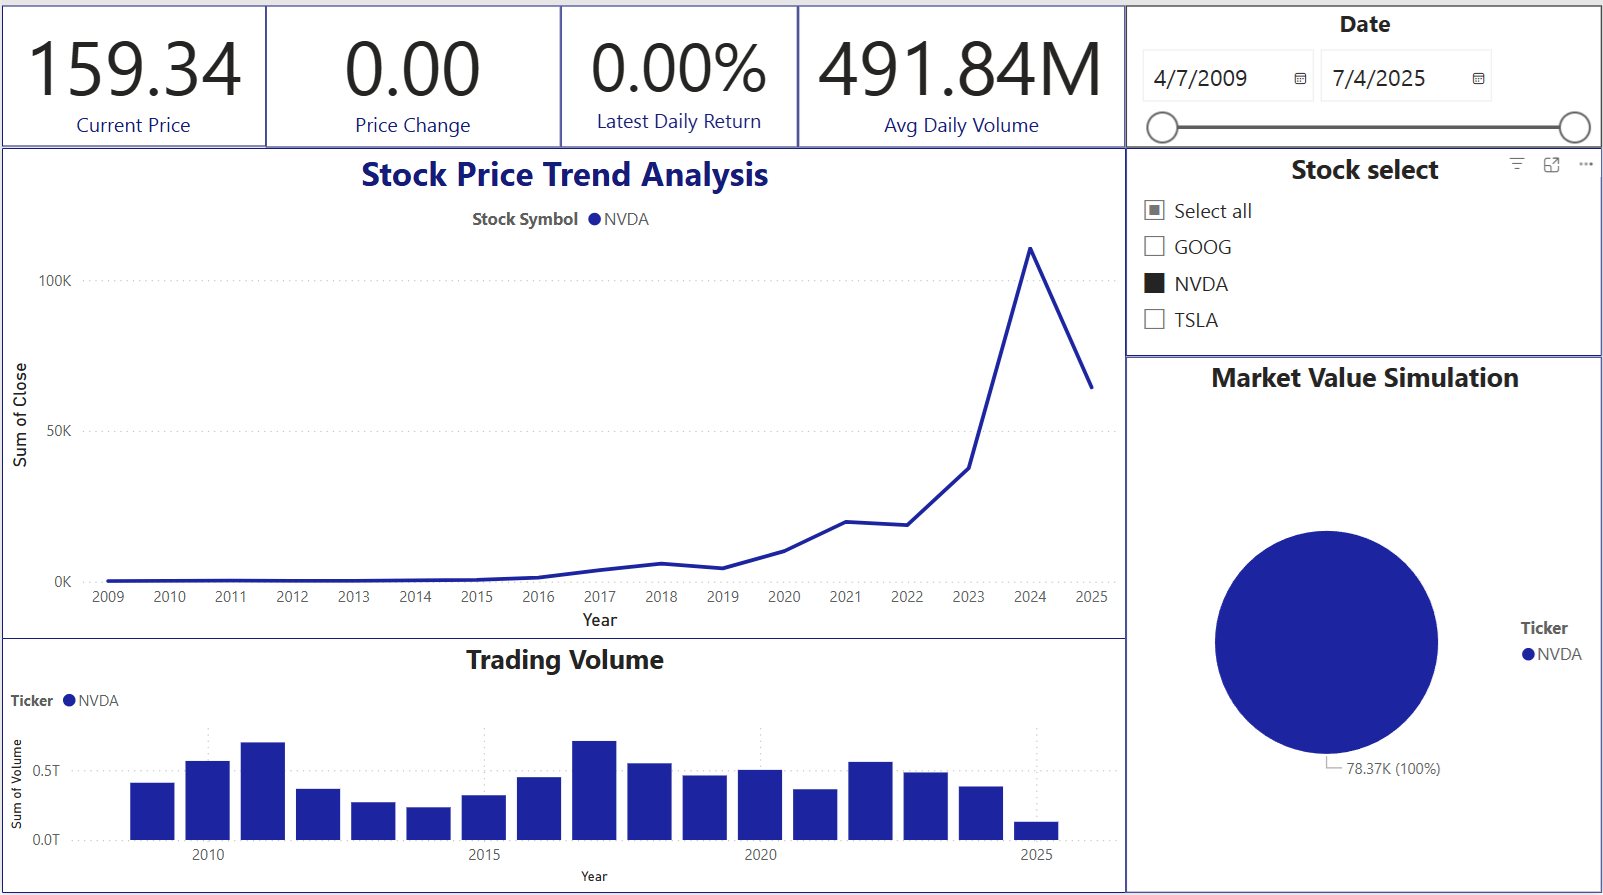

Layout of this report page (visuals, bound fields, positions):
{"tool":"powerbi","page":{"name":"Executive Dashboard","canvas":[1280,720],"ordinal":0},"visuals":[{"type":"lineChart","title":"Stock Price Trend Analysis","fields":{"Category":["Prices.Date.Variation.Date Hierarchy.Year","Prices.Date.Variation.Date Hierarchy.Quarter","Prices.Date.Variation.Date Hierarchy.Month","Prices.Date.Variation.Date Hierarchy.Day"],"Series":["Prices.Ticker"],"Y":["Sum(Prices.Close)"]},"box":[0,123.9,899.4,392.6],"z":0},{"type":"slicer","title":"Date","fields":{"Values":["Prices.Date"]},"box":[899.4,9.8,380.4,114.1],"z":1000},{"type":"card","fields":{"Values":["Prices.Current Price"]},"box":[0,9.6,211.3,113.9],"z":2000},{"type":"card","fields":{"Values":["Prices.Price Change"]},"box":[211.3,9.7,236,113.9],"z":3000},{"type":"card","fields":{"Values":["Prices.Avg Daily Volume"]},"box":[636.8,9.6,262.6,114.1],"z":4000},{"type":"columnChart","title":"Trading Volume","fields":{"Category":["Prices.Date.Variation.Date Hierarchy.Year","Prices.Date.Variation.Date Hierarchy.Quarter","Prices.Date.Variation.Date Hierarchy.Month","Prices.Date.Variation.Date Hierarchy.Day"],"Y":["Sum(Prices.Volume)"],"Series":["Prices.Ticker"]},"box":[0,516,898.8,204.5],"z":5000},{"type":"pieChart","title":"Market Value Simulation","fields":{"Category":["Prices.Ticker"],"Y":["Prices.Market Value Simulation"]},"box":[899.4,290.8,380.4,429.5],"z":6000},{"type":"card","fields":{"Values":["Prices.Latest Daily Return"]},"box":[446.6,9.6,190.2,114.1],"z":7000},{"type":"slicer","title":"Stock select","fields":{"Values":["Prices.Ticker"]},"box":[899.4,123.9,380.4,166.9],"z":8000}]}

Visuals, with their boxes in screenshot pixels (x1, y1, x2, y2), scaled from the page's 1280x720 canvas onto the 1603x895 screenshot:
"Stock Price Trend Analysis" lineChart: BBox(0, 154, 1126, 642)
"Date" slicer: BBox(1126, 12, 1602, 154)
card - Prices.Current Price: BBox(0, 12, 265, 154)
card - Prices.Price Change: BBox(265, 12, 560, 154)
card - Prices.Avg Daily Volume: BBox(797, 12, 1126, 154)
"Trading Volume" columnChart: BBox(0, 641, 1126, 894)
"Market Value Simulation" pieChart: BBox(1126, 361, 1602, 894)
card - Prices.Latest Daily Return: BBox(559, 12, 797, 154)
"Stock select" slicer: BBox(1126, 154, 1602, 361)
